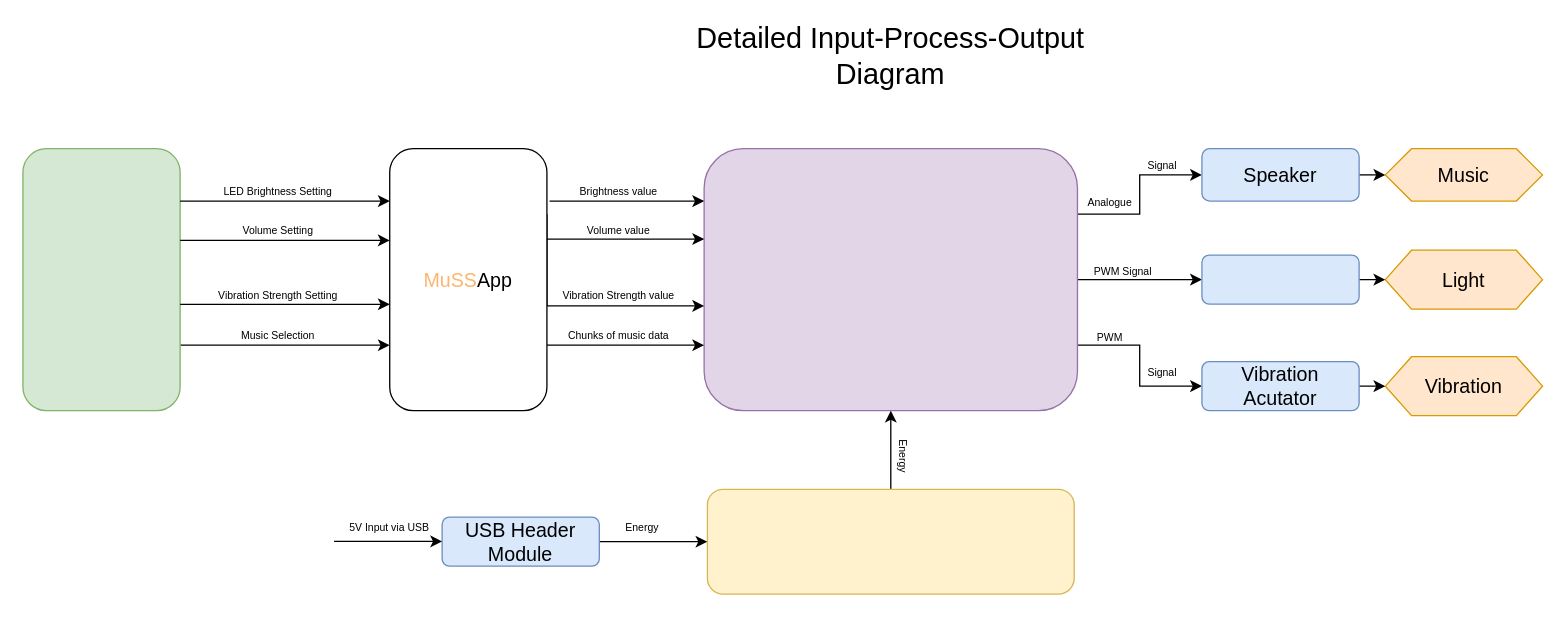
This 1565x617 diagram has some shape labels left out. The shapes that lost their labels are listed below. From the top down, each one's box as (x1, y1, x2, y2) in pixels, then its label:
(22, 147, 180, 411): User
(703, 147, 1077, 411): MuSS AP Device
(1201, 254, 1359, 304): LED module
(706, 488, 1074, 594): Energy Storage Module
